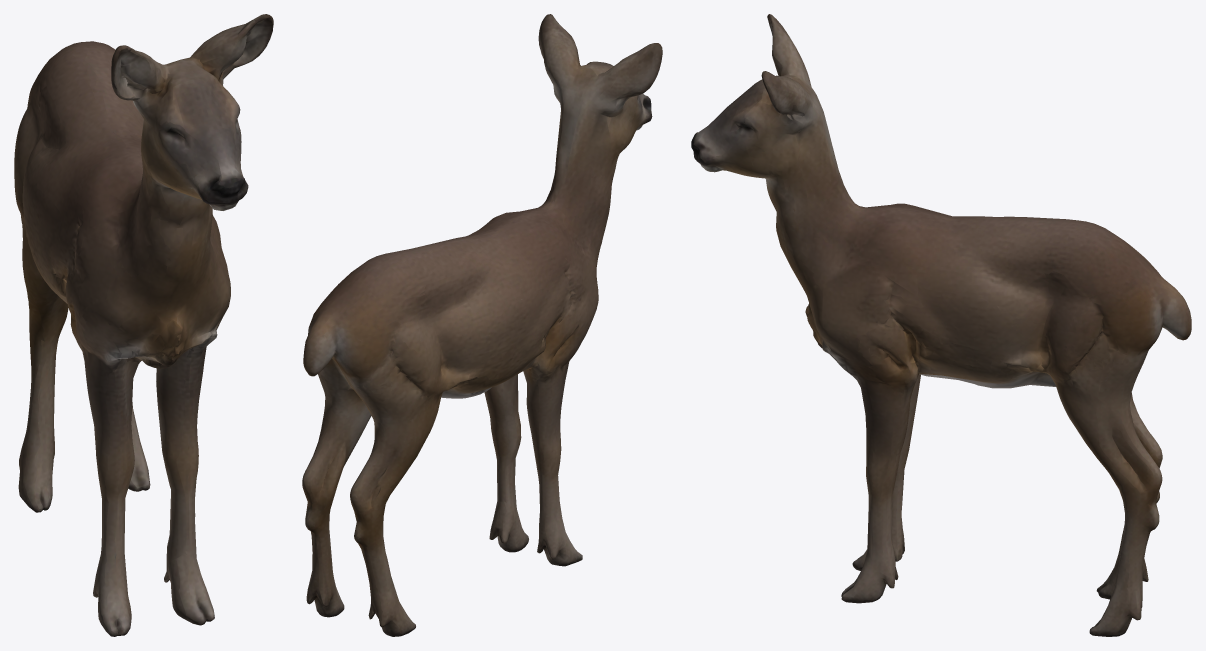
File: roe-deer-v21.glb
The picture shows the model from 3 angles, left to right: view 1: azimuth 30°, elevation 25°; view 2: azimuth 150°, elevation 25°; view 3: azimuth 270°, elevation 25°; orthographic projection. The views are drawn at different scales.
Visible parts, largest first — view 1: geometry_0; view 2: geometry_0; view 3: geometry_0.
Boxes of the visible parts, x1=… form: geometry_0: x1=14, y1=14, x2=273, y2=636; geometry_0: x1=302, y1=14, x2=662, y2=636; geometry_0: x1=691, y1=14, x2=1191, y2=636.
Size of the model in its own units: 1.3 by 3.33 by 2.83.
1 material, 1 textured.
